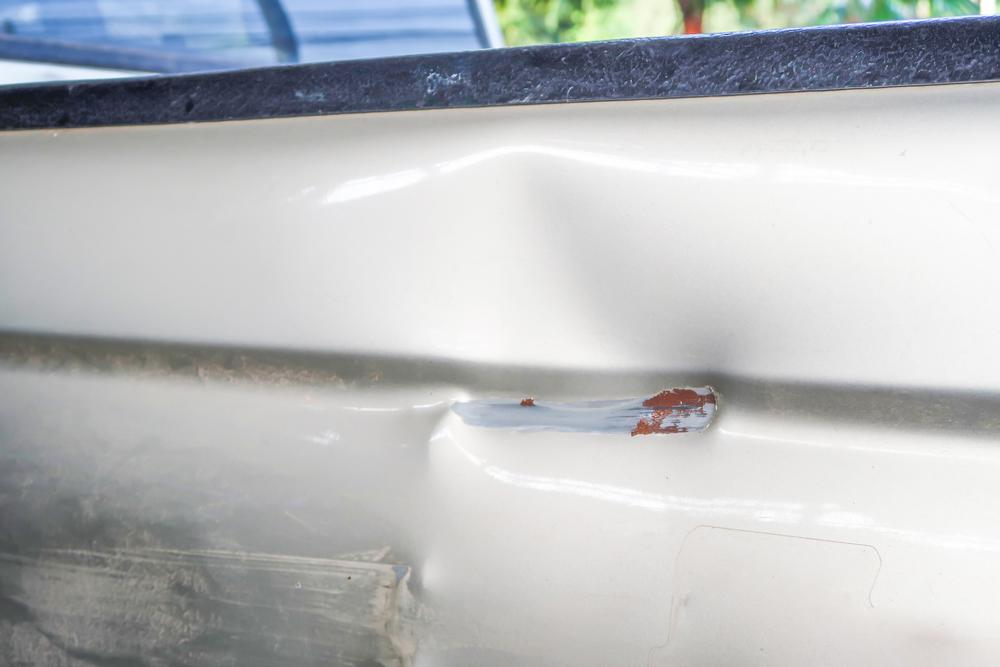dent: (402, 148, 727, 372), (372, 399, 476, 667)
scratch: (0, 535, 379, 667)
